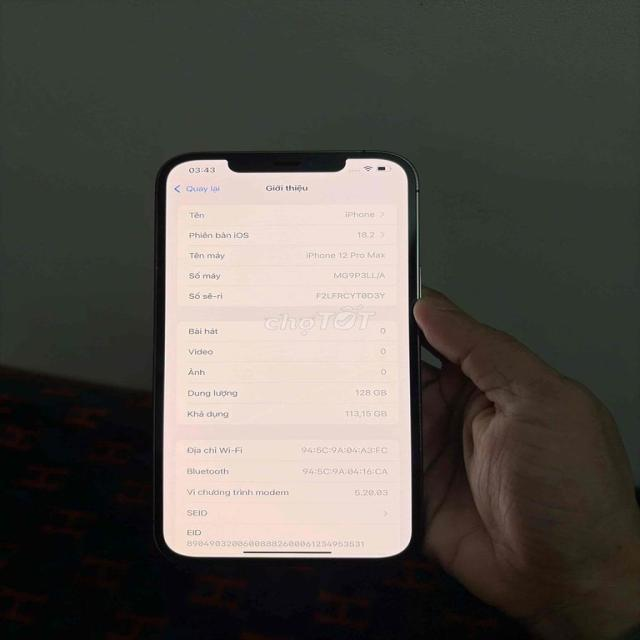gen_12_13: (140, 143, 428, 575)
